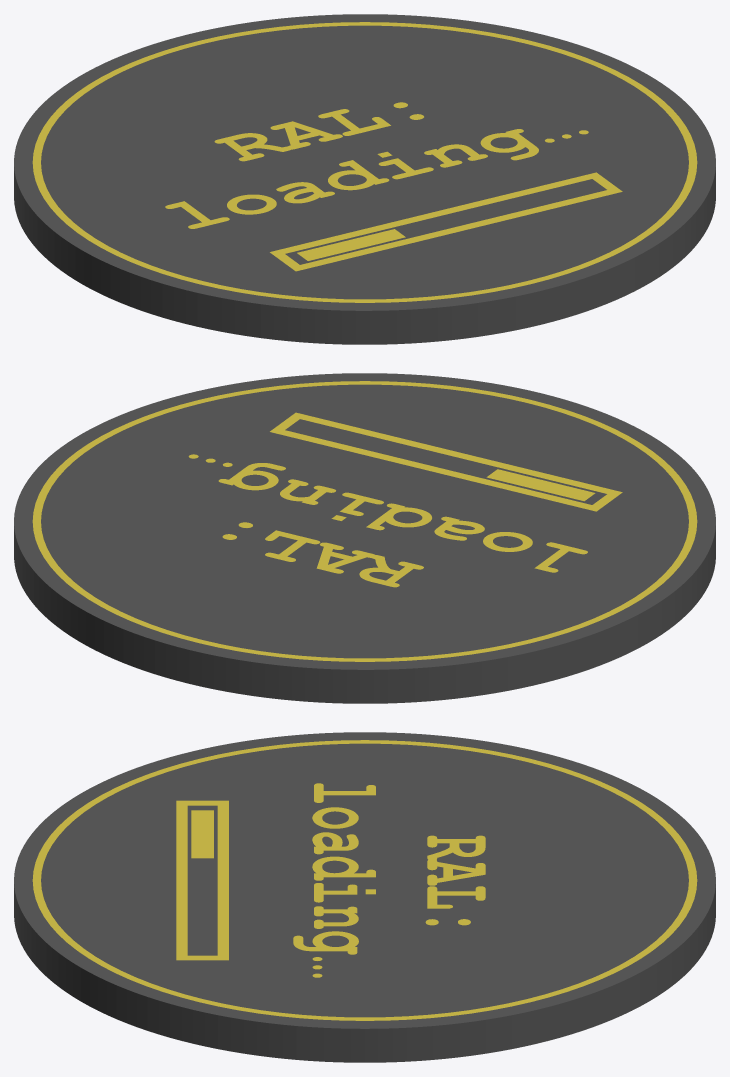
File: sottobicchiere-ral-loading.glb
3 renders of one model, top to bottom at view 1: azimuth 30°, elevation 25°; view 2: azimuth 150°, elevation 25°; view 3: azimuth 270°, elevation 25°, orthographic.
Visible parts, largest first — view 1: coaster_base, coaster_ink; view 2: coaster_base, coaster_ink; view 3: coaster_base, coaster_ink.
Part boxes in pixels (<box>): coaster_base: <box>14,14,715,344</box>; coaster_ink: <box>32,22,697,302</box>; coaster_base: <box>14,373,715,703</box>; coaster_ink: <box>32,381,697,661</box>; coaster_base: <box>14,732,715,1062</box>; coaster_ink: <box>32,740,697,1020</box>.
Bounding box in the file's own units: 0.075 × 0.004 × 0.075.
